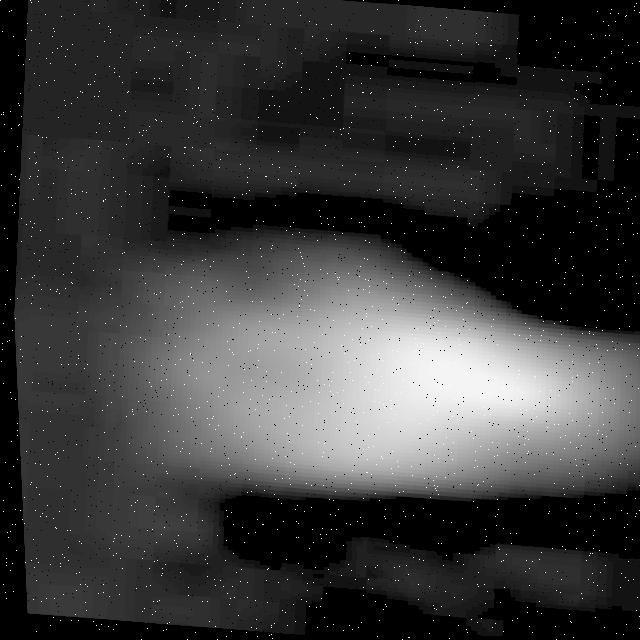person: (126, 232, 640, 543)
